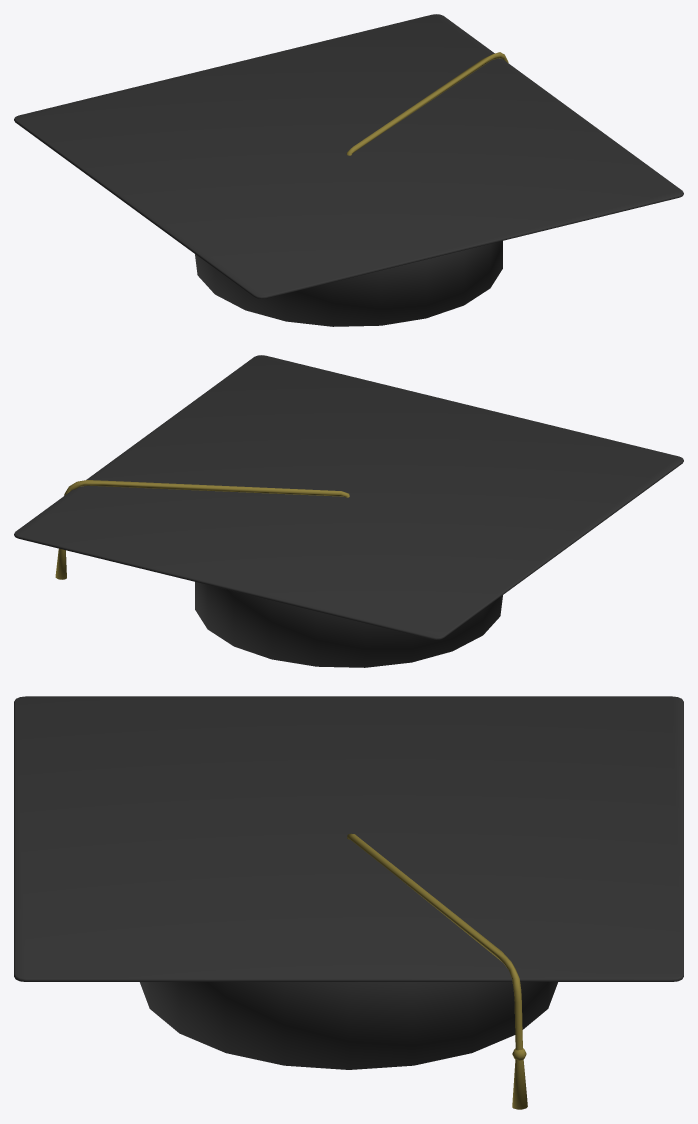
Rendered from GradHat.glb.
3 renders of one model, top to bottom at view 1: azimuth 30°, elevation 25°; view 2: azimuth 150°, elevation 25°; view 3: azimuth 270°, elevation 25°, orthographic. The views are drawn at different scales.
Visible parts, largest first — view 1: Roundcube.001; view 2: Roundcube.001; view 3: Roundcube.001.
Boxes of the visible parts, box(x1,y1,x2,y2) form: Roundcube.001: box(14, 14, 683, 326); Roundcube.001: box(14, 355, 683, 667); Roundcube.001: box(14, 696, 683, 1109).
Bounding box in the file's own units: 0.3724 × 0.0928 × 0.3598.
